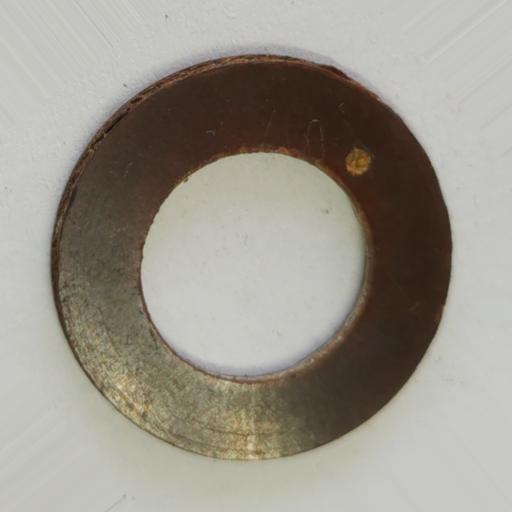defect: (345, 149, 372, 176)
